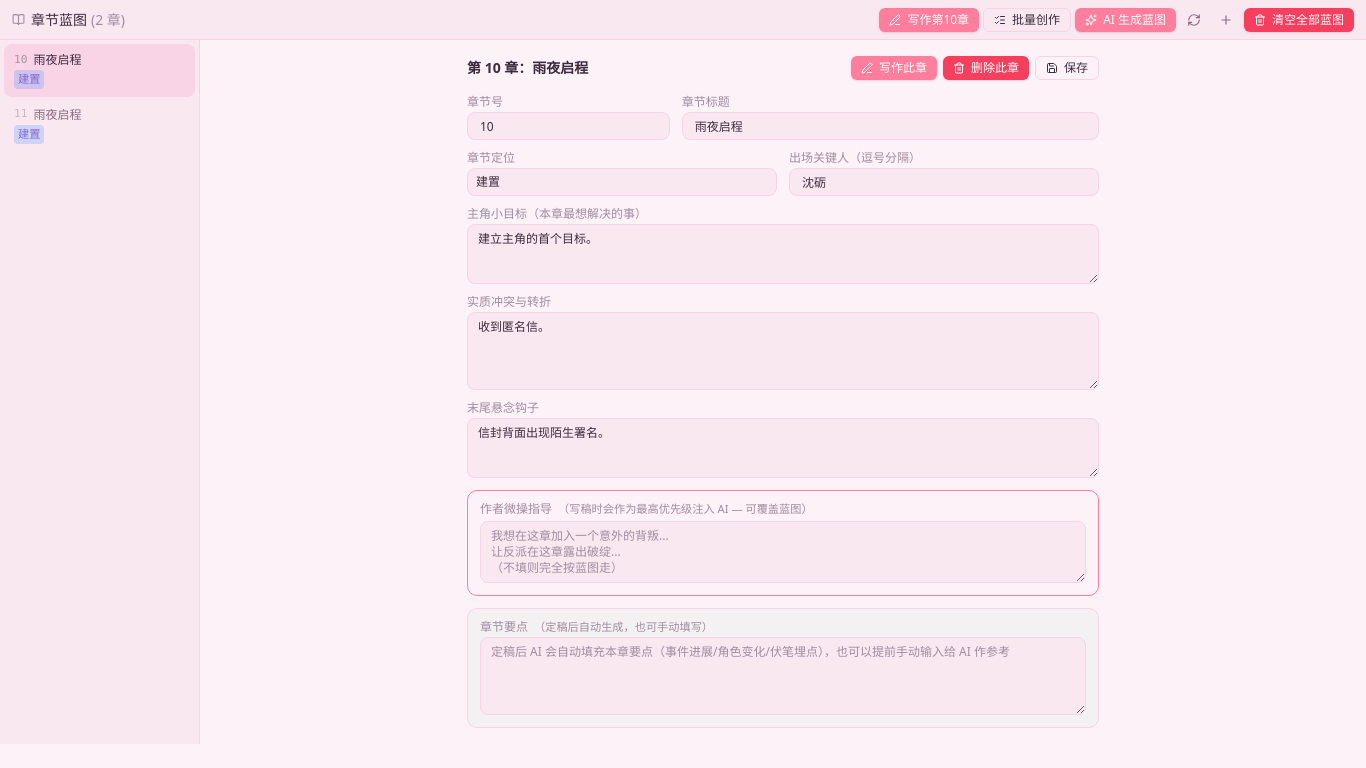
Scenario: ChapterCardEditor writing entry › appends after the blueprint maximum when the authoritative next blueprint already exists
Click the button named "新建章节": (1226, 20) [1212,6,1240,34]
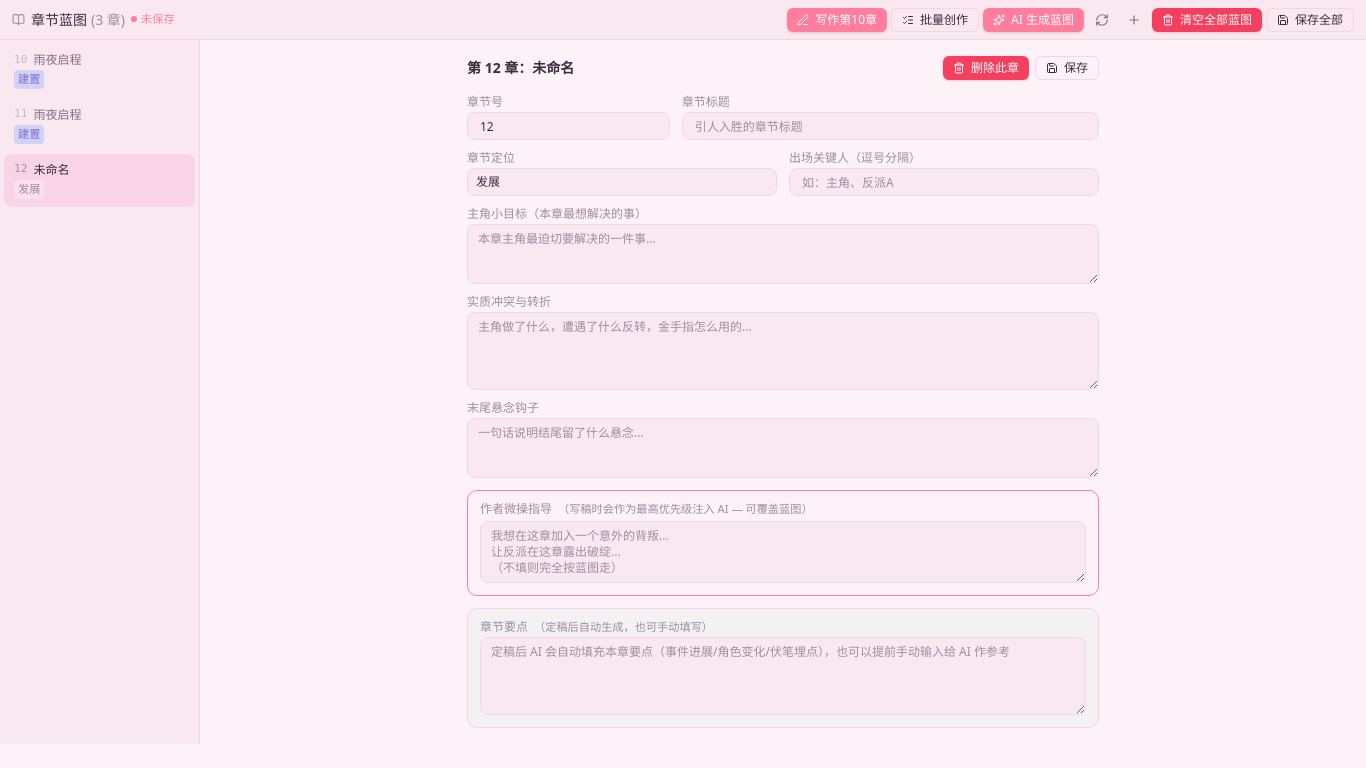
Expected: the text "写作第10章" is shown, [787,8,887,32]
Result: the text "第 12 章：" is shown at [467,58,574,77]
